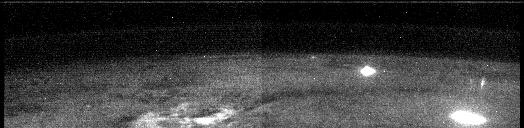positive: (476, 76, 488, 95)
